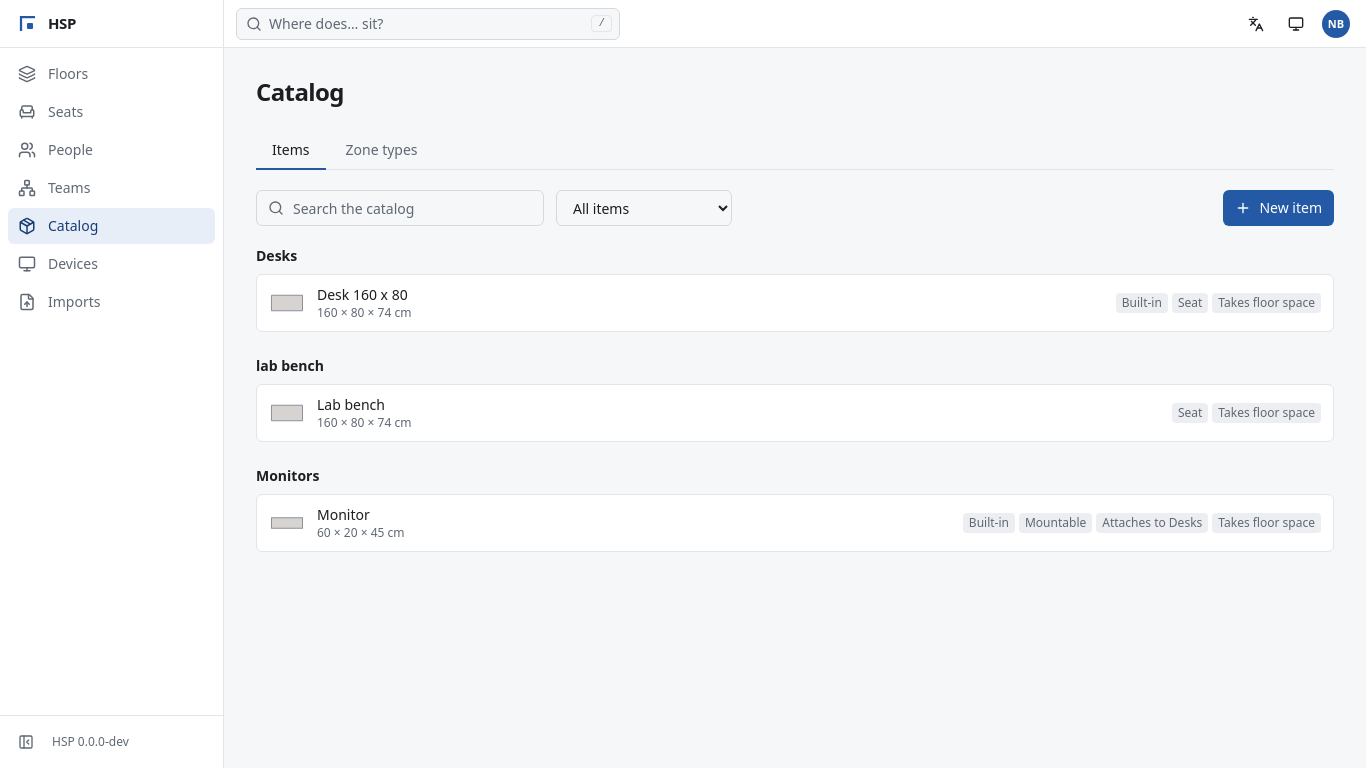
Test: the catalog (docs/0095) › searches, and shows only the organisation's own items or the archived ones
Type "mon" into the search field labelled "Search the catalog" at [400, 208], box [256, 190, 544, 226]
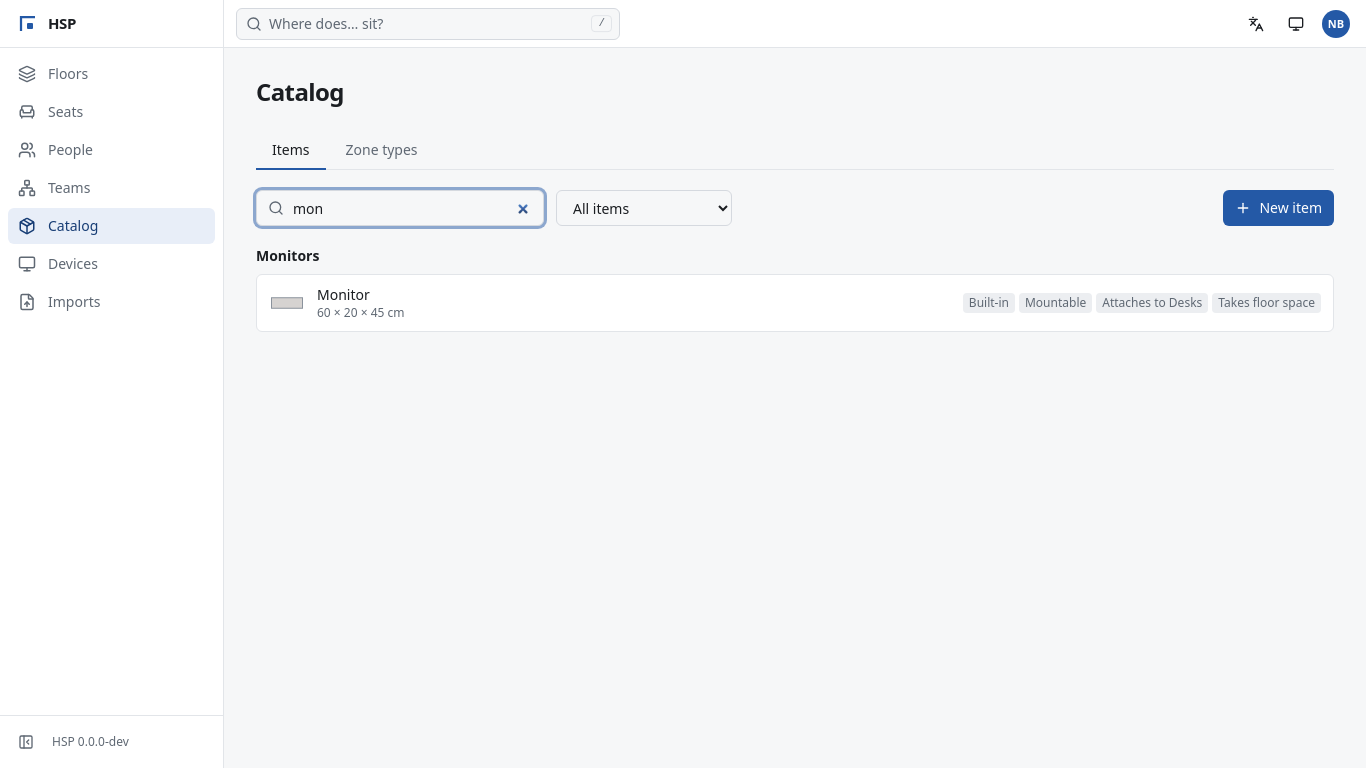
Check: the element "Monitors" is shown, box [256, 246, 1334, 332]
Clear the search field named "Search the catalog" at [400, 208], box [256, 190, 544, 226]
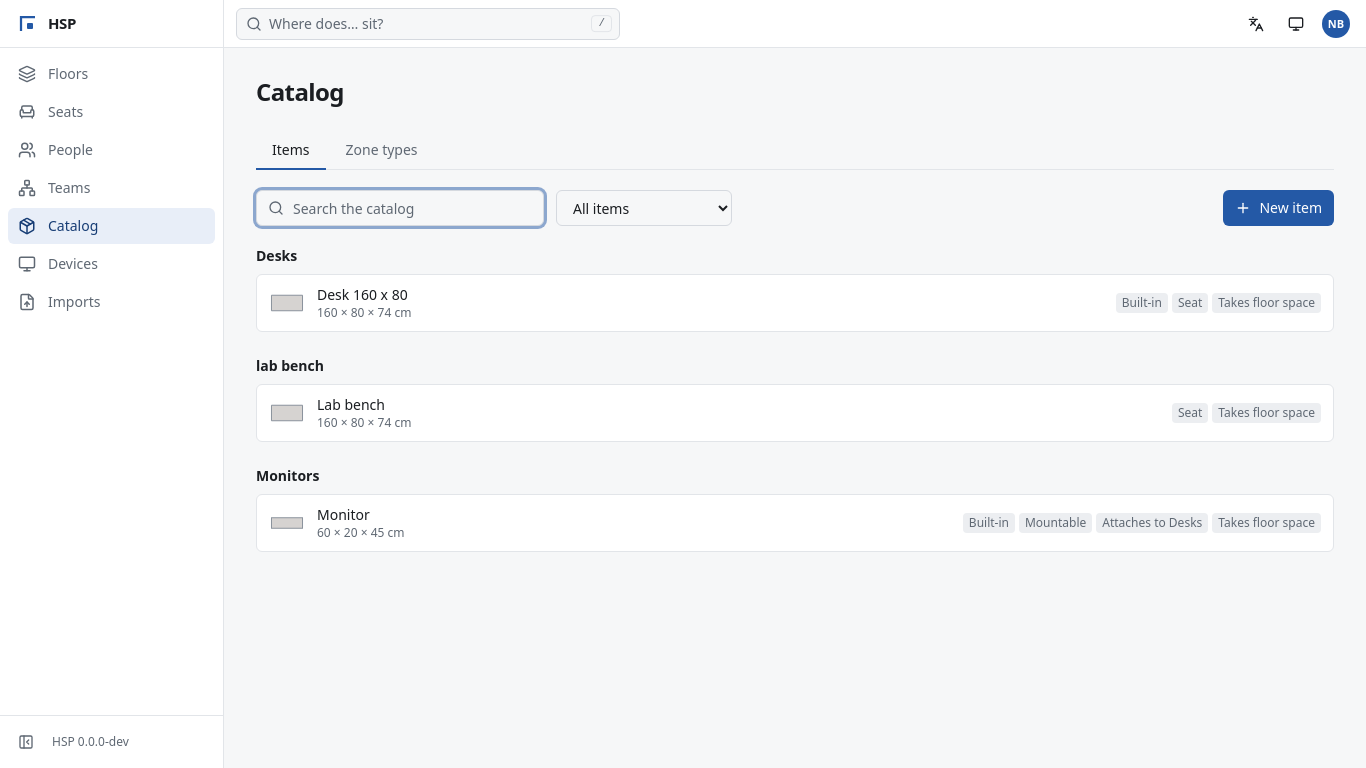
Select "Our own" in the dropdown named "Show" at [644, 208], box [556, 190, 732, 226]
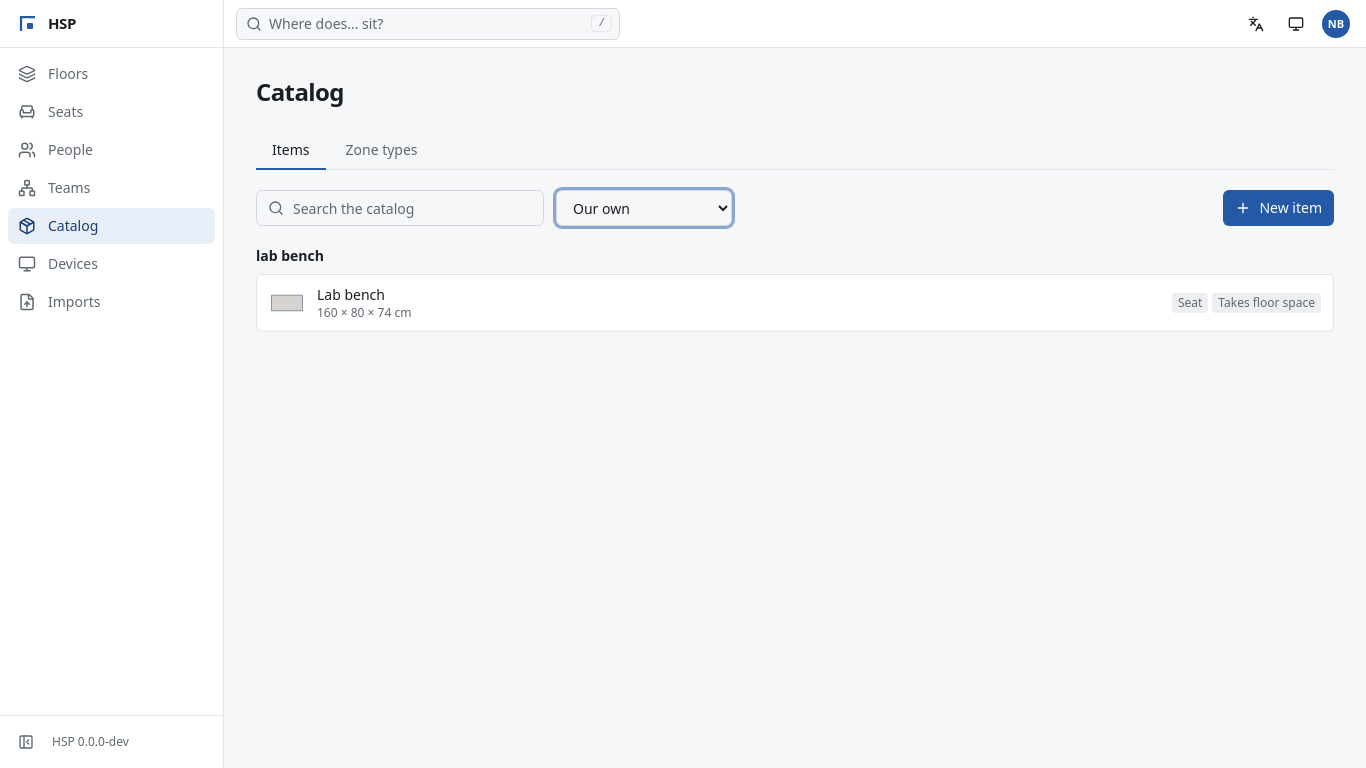
Check: the link "Lab bench" is shown, box [317, 285, 385, 304]
Check: the heading "Monitors" is gone
Select "Archived" in the dropdown named "Show" at [644, 208], box [556, 190, 732, 226]
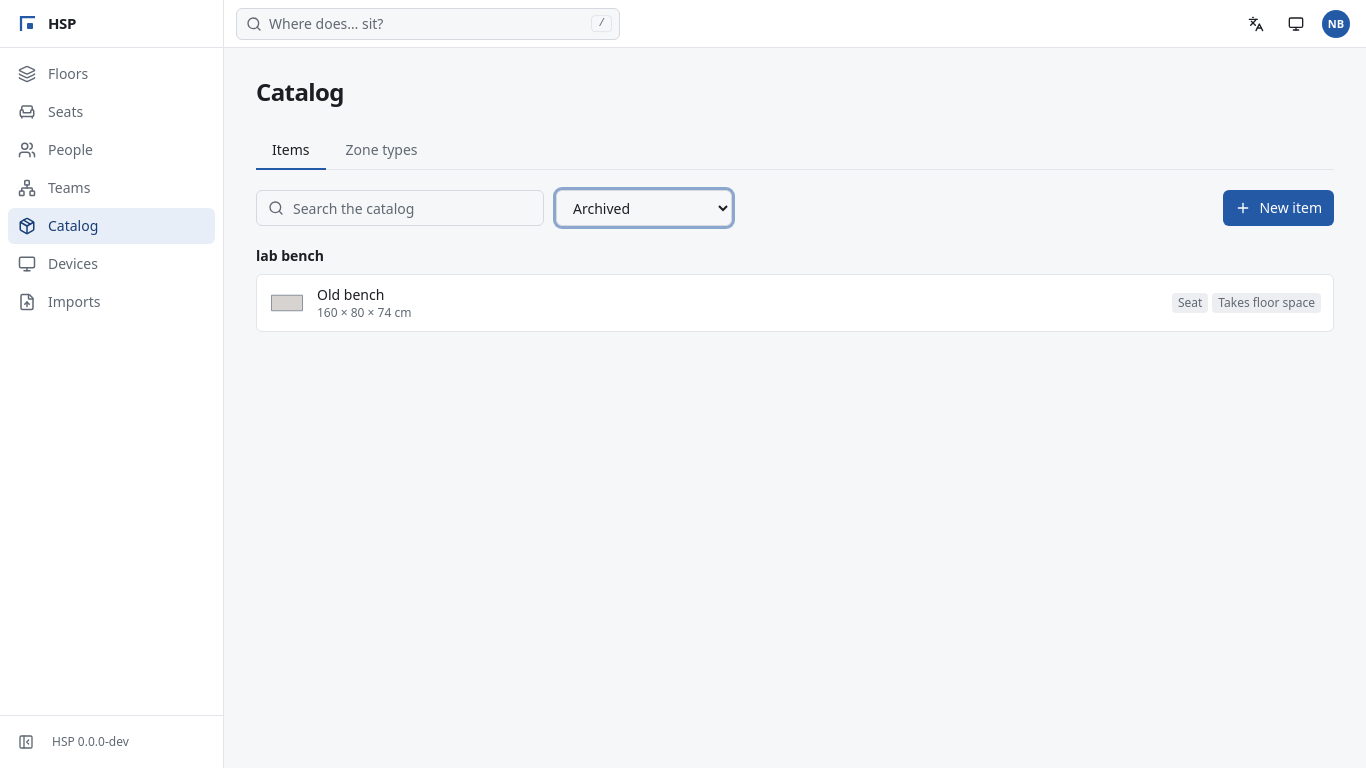
Check: the link "Old bench" is shown, box [317, 285, 384, 304]
